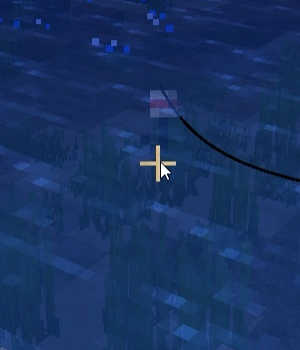down: (147, 83, 181, 151)
